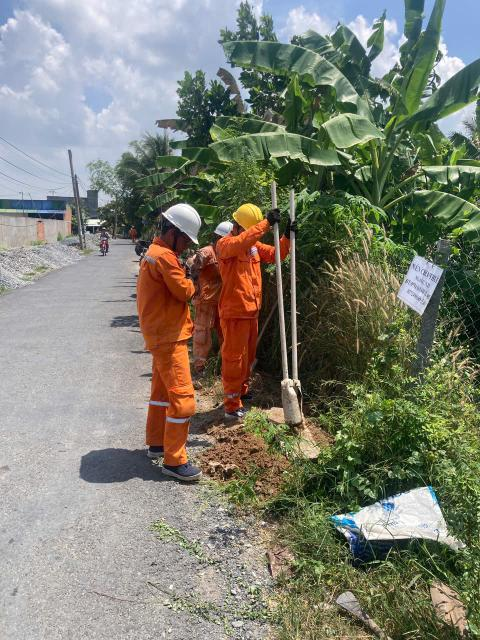gloves: (258, 204, 283, 225), (283, 218, 302, 243)
helmet: (148, 197, 212, 248), (230, 203, 270, 232), (207, 218, 236, 242)
shoes: (161, 459, 204, 487), (136, 436, 175, 461), (235, 385, 260, 406), (221, 408, 249, 425)
